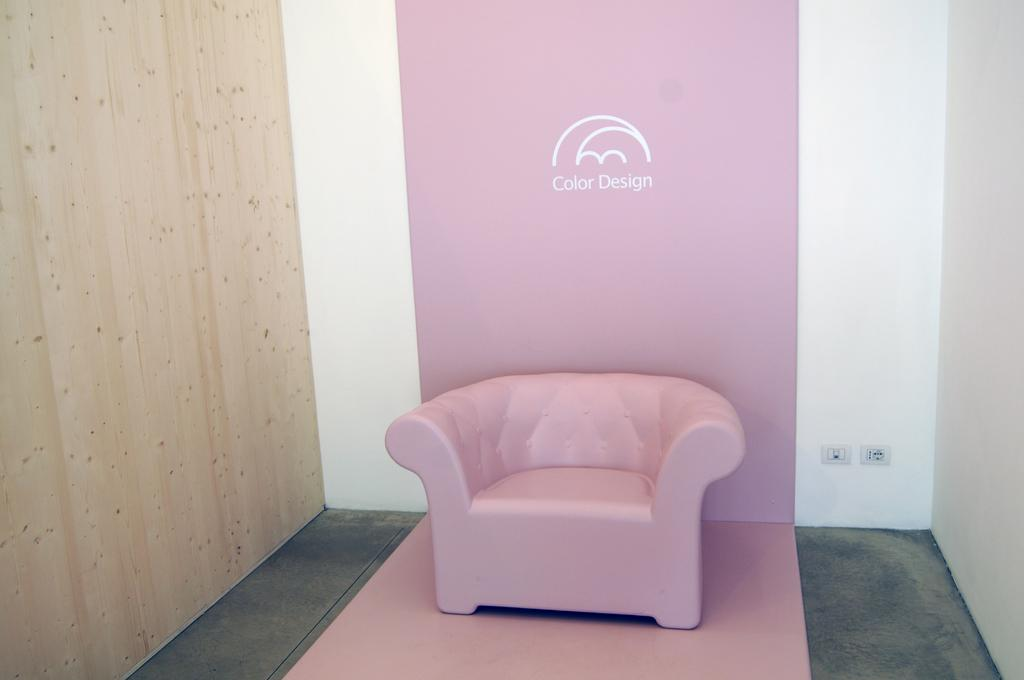Chair: (378, 369, 748, 635)
